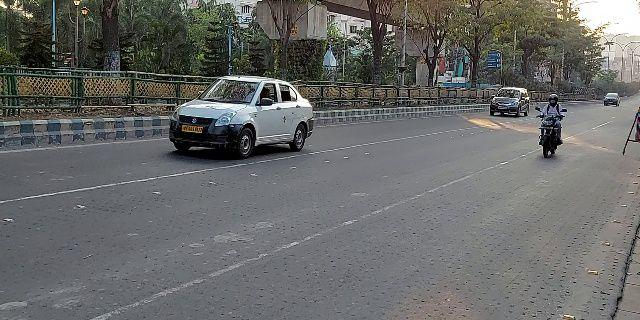Car: (164, 71, 314, 163), (482, 84, 531, 121)
Motorbike: (534, 89, 566, 163)
